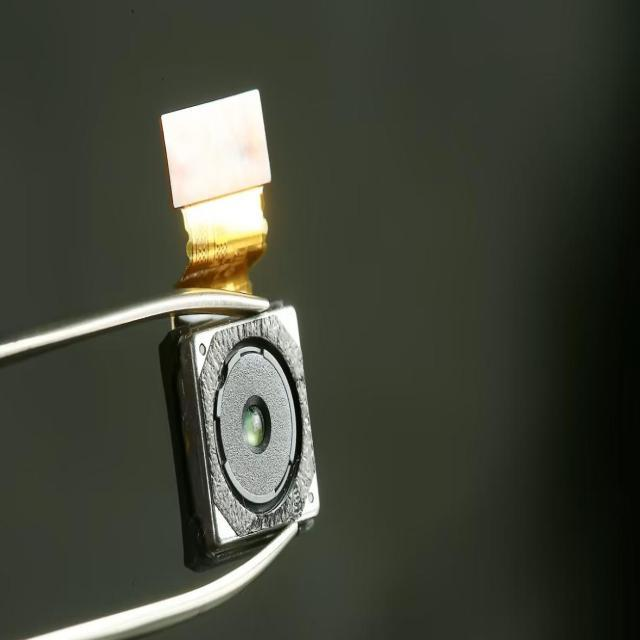hidden camera: (212, 342, 301, 516)
